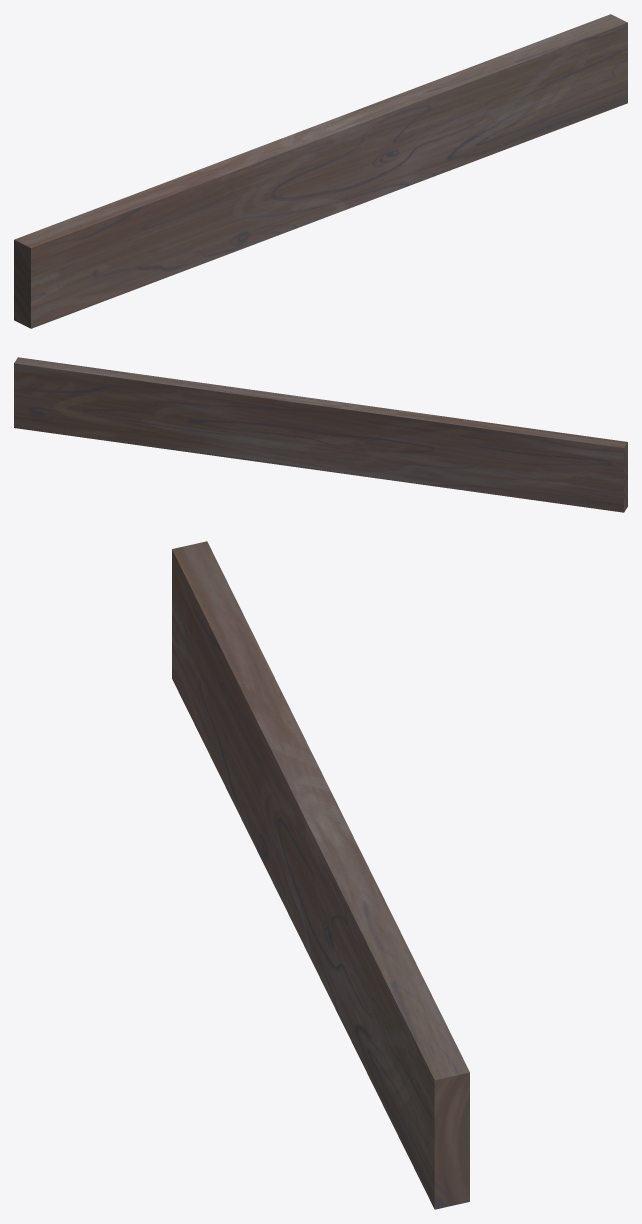
The model's file is long_board_011.fbx.
The picture shows the model from 3 angles, top to bottom: view 1: azimuth 30°, elevation 25°; view 2: azimuth 150°, elevation 25°; view 3: azimuth 270°, elevation 25°; orthographic projection. The views are drawn at different scales.
Parts seen in each view (by area): view 1: long board.011; view 2: long board.011; view 3: long board.011.
Boxes of the visible parts, x1,y1,x2,y2 form: long board.011: [14, 14, 627, 328]; long board.011: [14, 357, 627, 512]; long board.011: [172, 541, 469, 1209].
Bounding box in the file's own units: 90.31 × 10.41 × 21.23.
